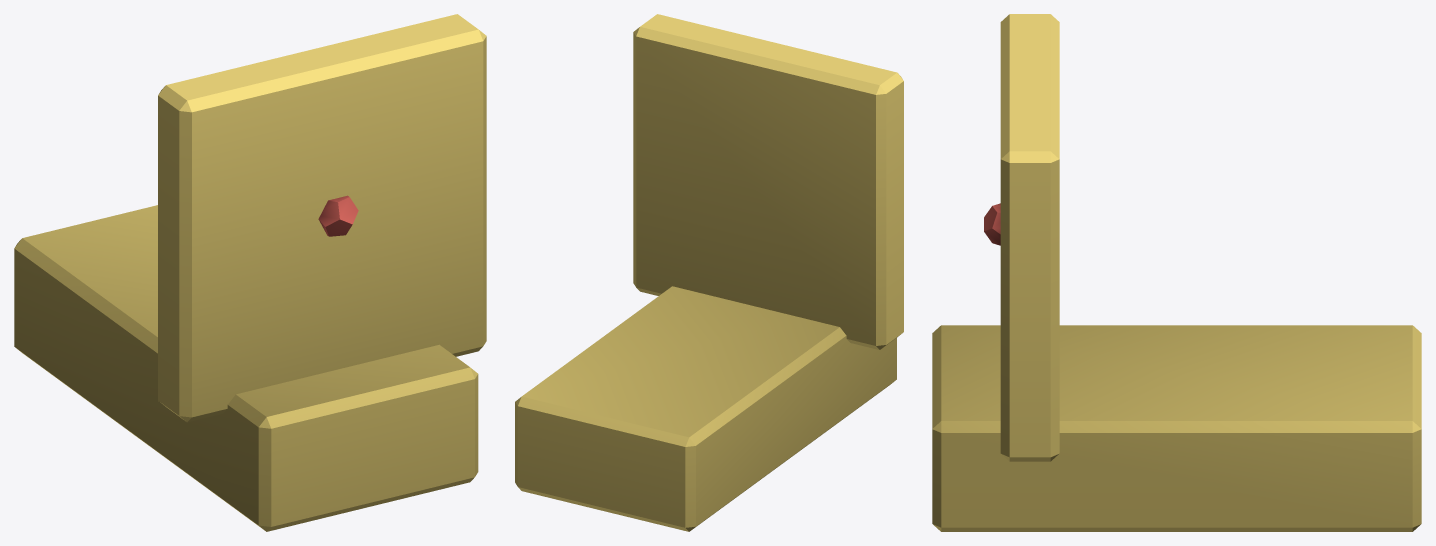
The model's file is AttReflex.fbx.
3 renders of one model, left to right at view 1: azimuth 30°, elevation 25°; view 2: azimuth 150°, elevation 25°; view 3: azimuth 270°, elevation 25°, orthographic. The views are drawn at different scales.
Parts seen in each view (by area): view 1: Body; view 2: Body; view 3: Body.
Boxes of the visible parts, x1,y1,x2,y2 form: Body: (14, 14, 486, 531); Body: (515, 14, 903, 531); Body: (932, 14, 1421, 531).
Size of the model in its own units: 0.07 by 0.0905 by 0.1.
